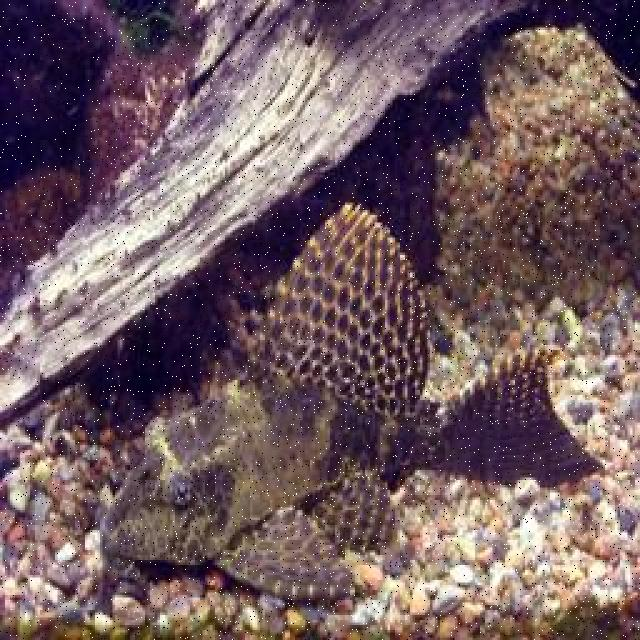fish: (95, 199, 617, 600)
wrecks-ruins: (0, 1, 550, 430)
